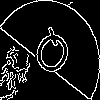Q: (25, 25, 76, 87)
